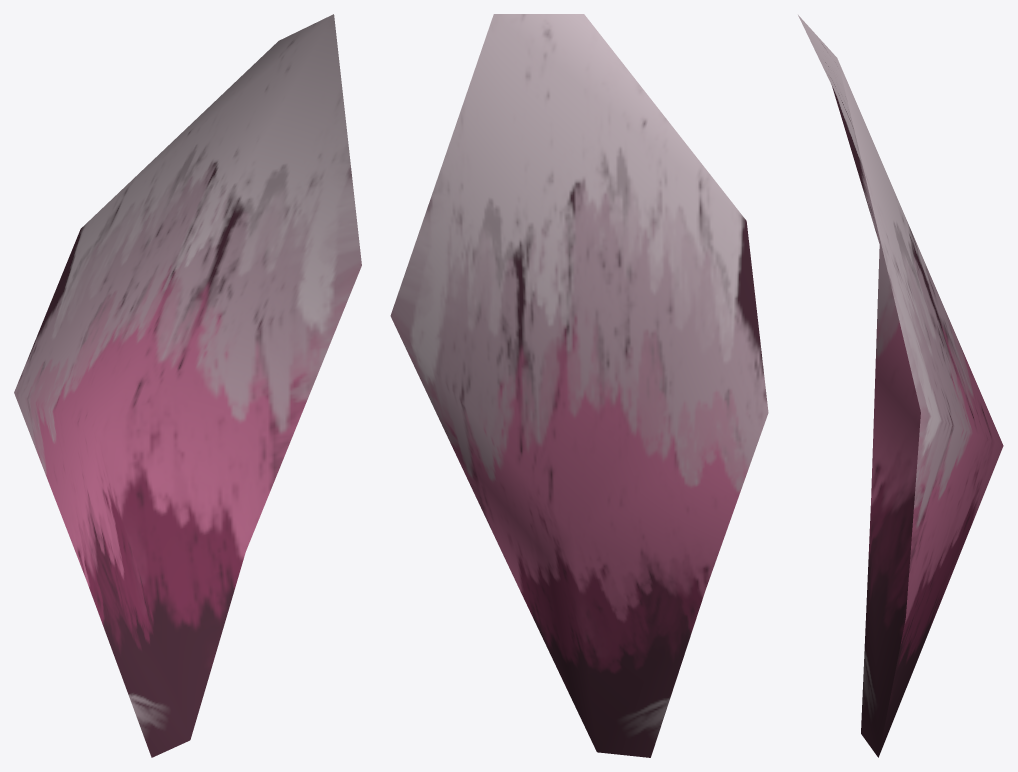
File: Magnolia_Blossom.fbx
3 views of the same model, side by side, from view 1: azimuth 30°, elevation 25°; view 2: azimuth 150°, elevation 25°; view 3: azimuth 270°, elevation 25° (orthographic). The views are drawn at different scales.
Visible parts, largest first — view 1: Magnolia.001; view 2: Magnolia.001; view 3: Magnolia.001.
Boxes of the visible parts, x1,y1,x2,y2 form: Magnolia.001: (14, 14, 361, 757); Magnolia.001: (390, 14, 768, 757); Magnolia.001: (798, 15, 1003, 757).
Bounding box in the file's own units: 12.33 × 22.94 × 5.56.
1 material, 1 textured.
